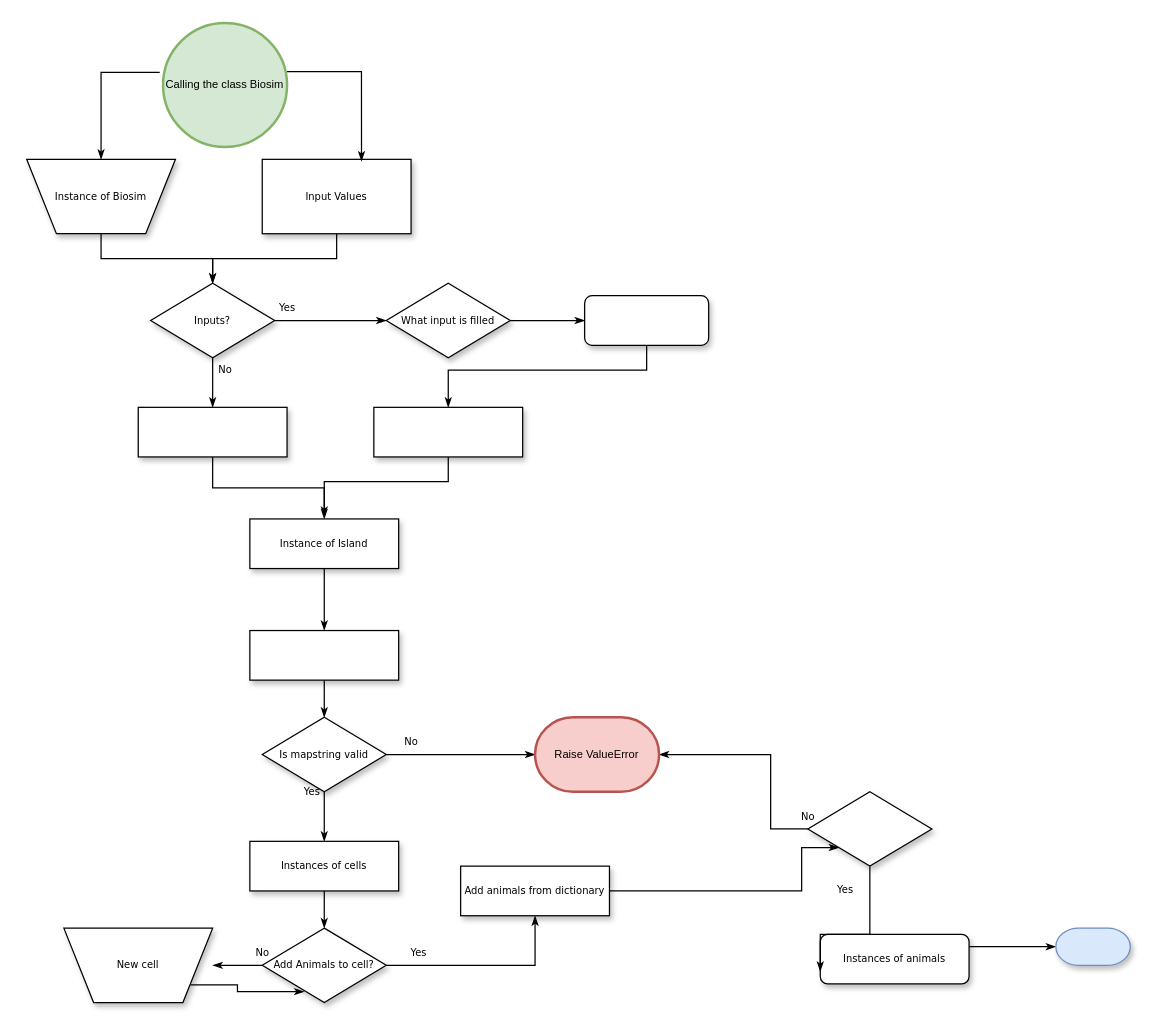
Some shapes in this 1159 by 1033 pixel diagram are drawn without their labels. The centre of each missing label's shape, as x and y in pixels:
"Create default instance" belongs at point (213, 433).
"Create Map (dictionary)" belongs at point (325, 656).
"Create unique instance" belongs at point (449, 433).
"End" belongs at point (1094, 948).
"Is cell valid?" belongs at point (870, 830).
"Replace defaults" belongs at point (647, 322).
